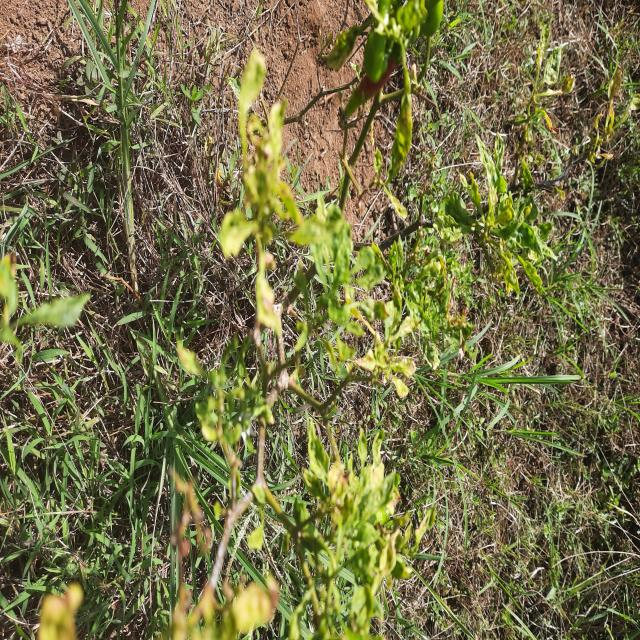virus_kuning: (238, 47, 268, 171), (390, 375, 410, 407)
